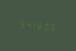eight: (36, 19, 41, 31)
five: (17, 18, 22, 29)
four: (23, 18, 28, 30)
one: (30, 19, 35, 30)
six: (48, 20, 53, 32)
zero: (42, 20, 47, 31)
